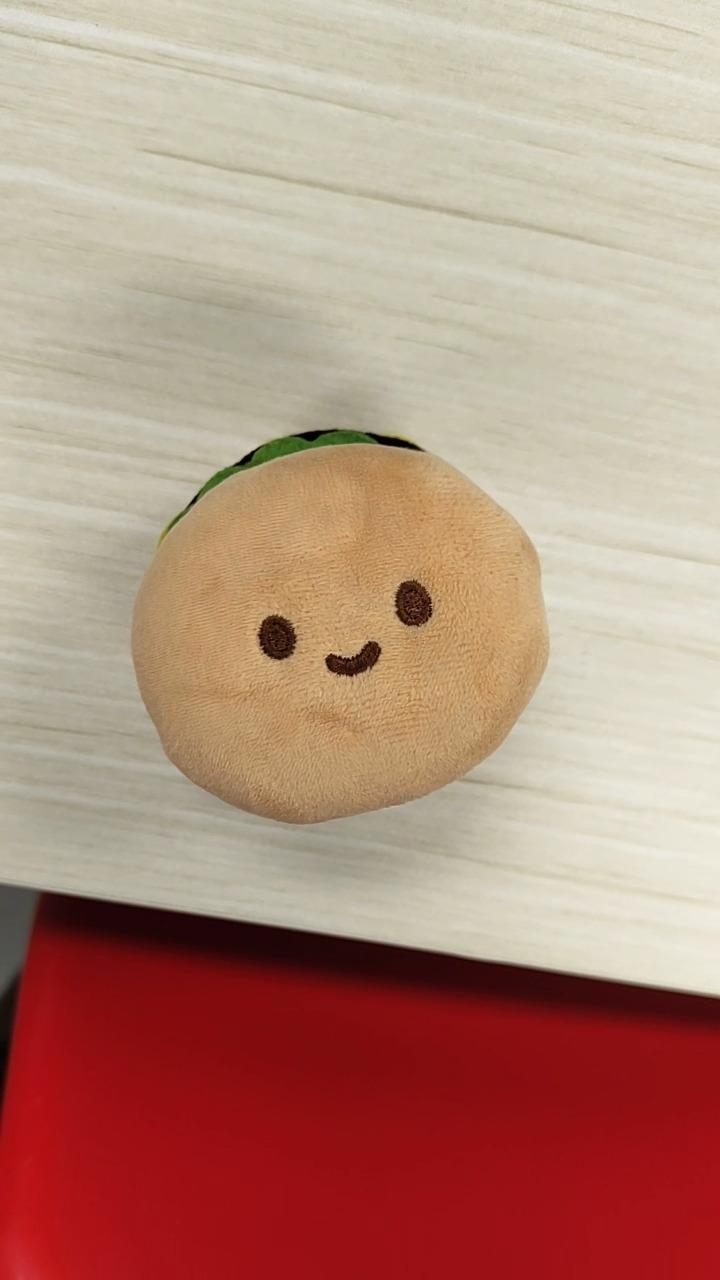hamburger: (129, 426, 551, 826)
